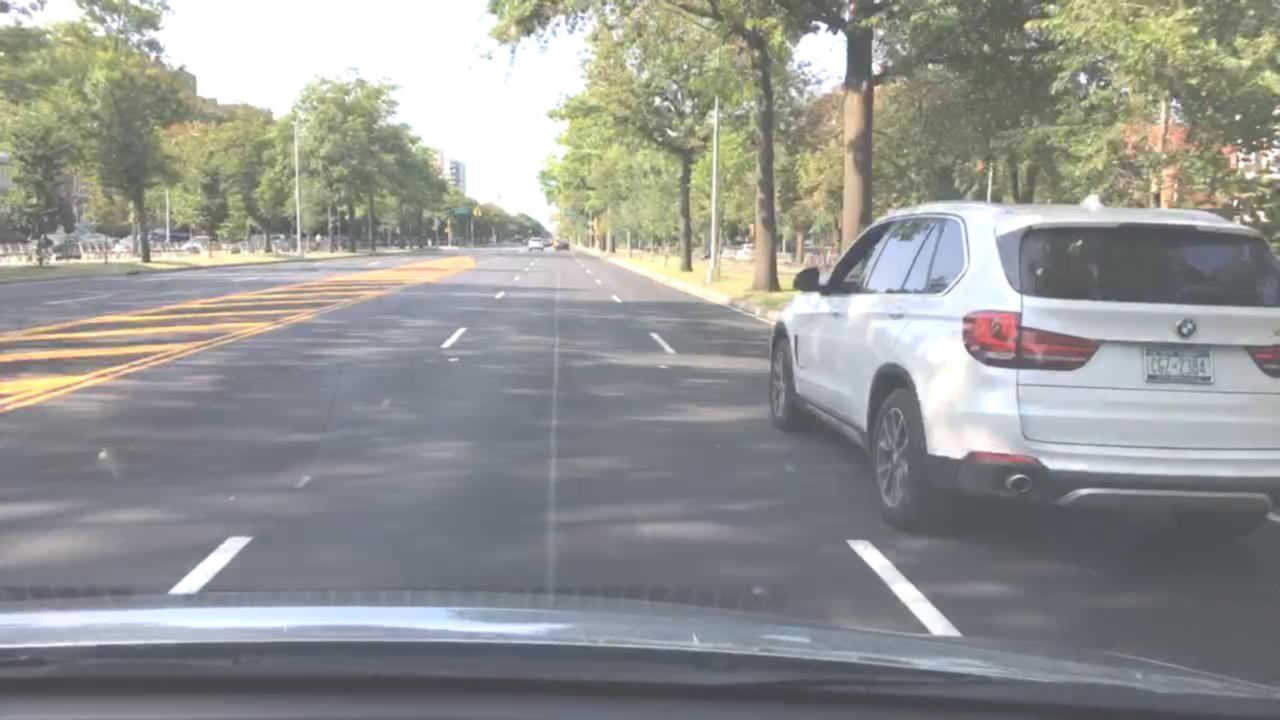bmw: (1175, 317, 1197, 341)
